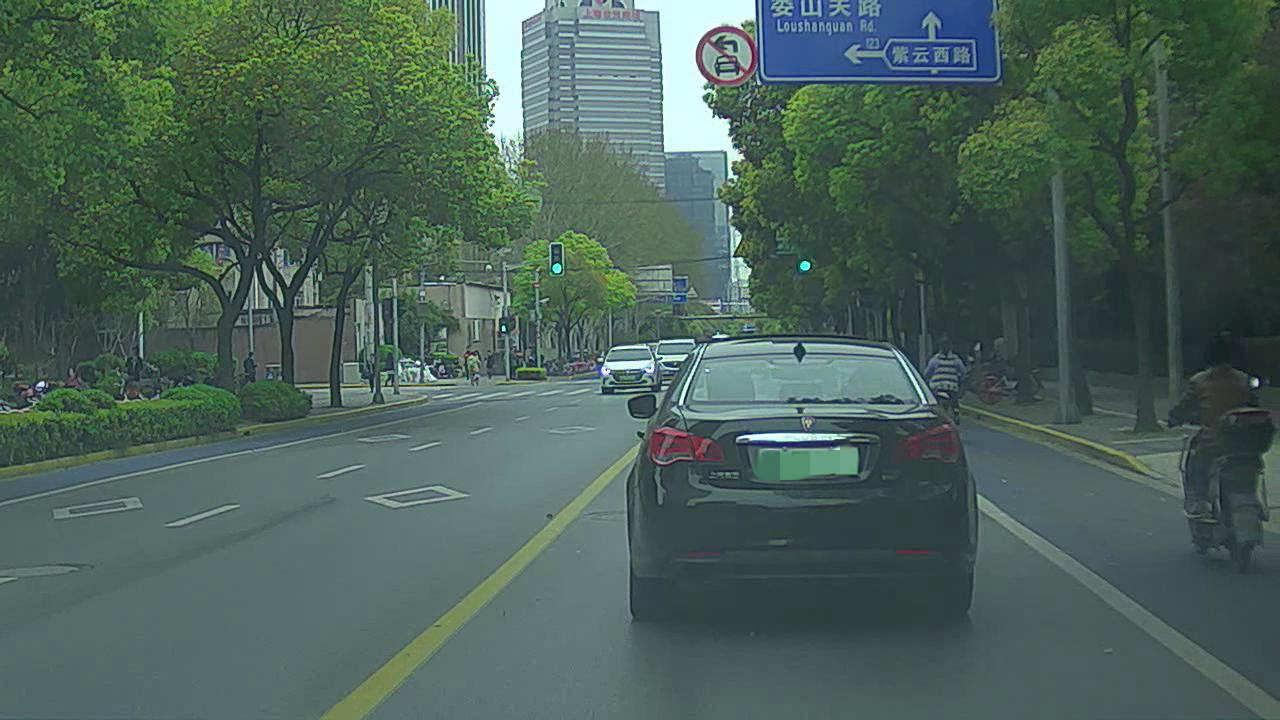traffic_light: (547, 243, 566, 278)
